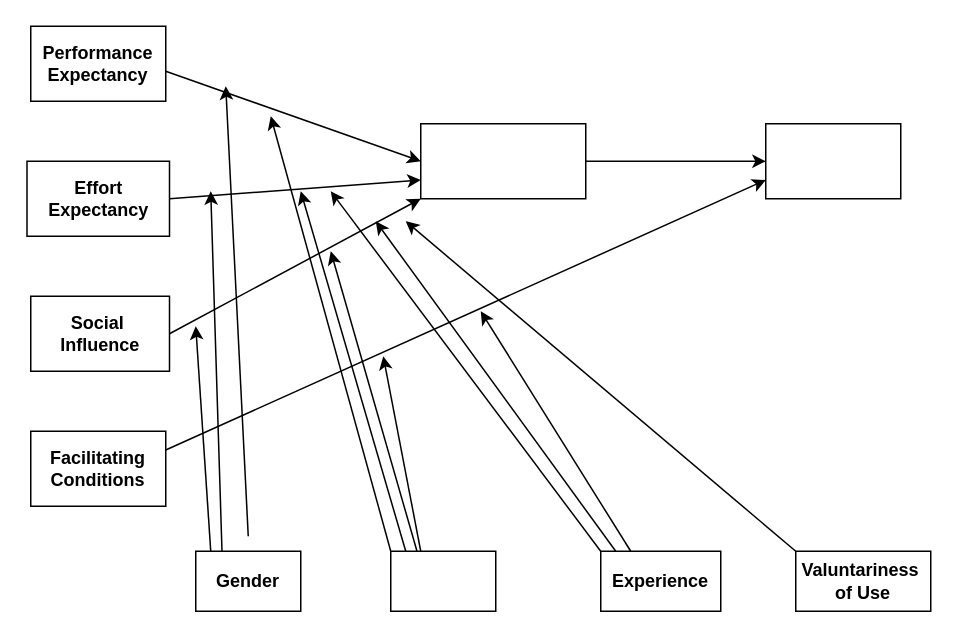
This 957x638 diagram has some shape labels left out. The shapes that lost their labels are listed below. From the top down, each one's centre as x and y in pixels, then its label:
(x=502, y=160): Behavioral Intention
(x=832, y=160): Use Behavior
(x=442, y=580): Age
